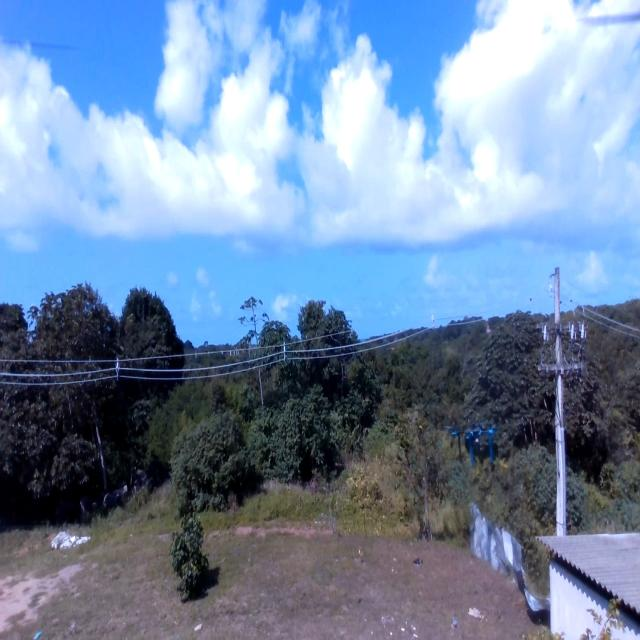-uav-: (447, 418, 511, 486)
